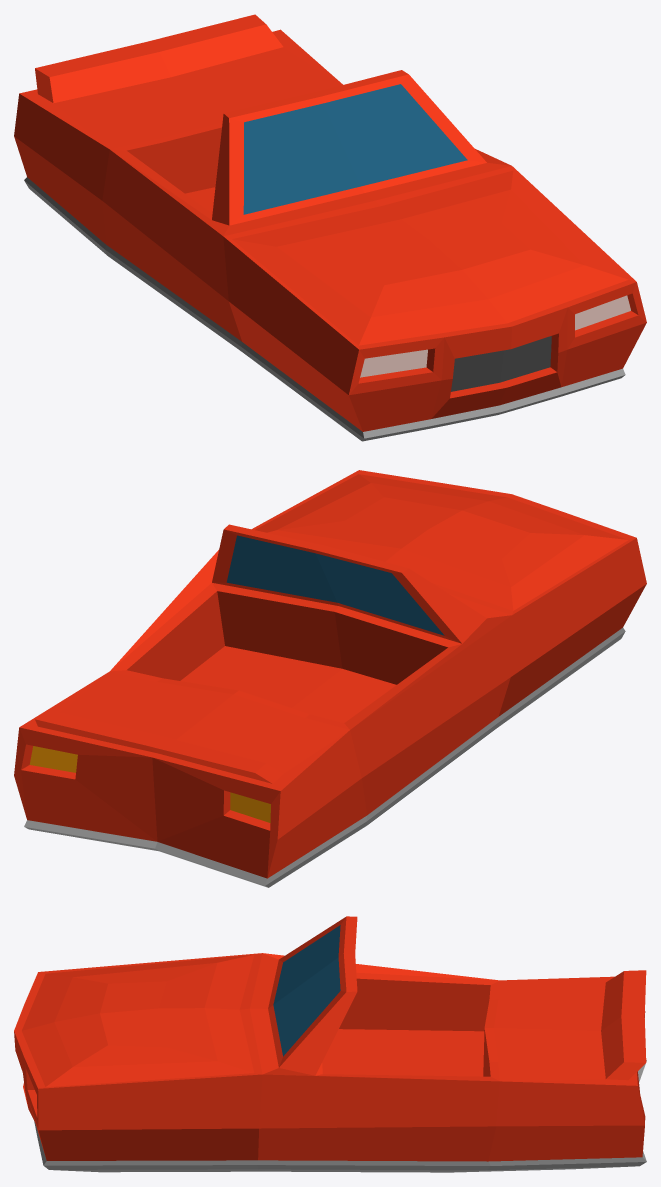
The model's file is PlayerCar.glb.
The picture shows the model from 3 angles, top to bottom: view 1: azimuth 30°, elevation 25°; view 2: azimuth 150°, elevation 25°; view 3: azimuth 270°, elevation 25°; orthographic projection. The views are drawn at different scales.
Parts seen in each view (by area): view 1: Cube; view 2: Cube; view 3: Cube.
Boxes of the visible parts, bbox=[...] form: Cube: bbox=[14, 14, 646, 441]; Cube: bbox=[14, 470, 646, 887]; Cube: bbox=[14, 916, 646, 1172].
Bounding box in the file's own units: 4.93 × 3.09 × 10.51.
1 material, 1 textured.
